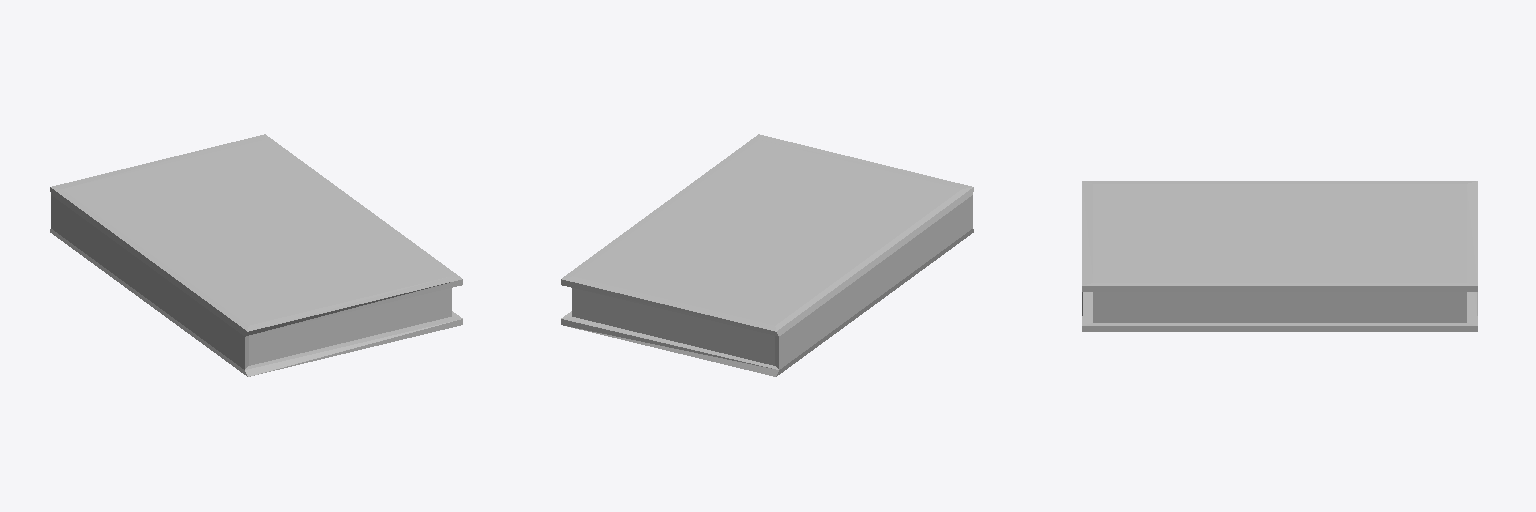
Rendered from BookStyle2.obj.
3 renders of one model, left to right at view 1: azimuth 30°, elevation 25°; view 2: azimuth 150°, elevation 25°; view 3: azimuth 270°, elevation 25°, orthographic.
Visible parts, largest first — view 1: Plane, Plane.001; view 2: Plane, Plane.001; view 3: Plane, Plane.001.
Boxes of the visible parts, x1,y1,x2,y2 form: Plane: [50, 134, 462, 376]; Plane.001: [249, 288, 451, 365]; Plane: [561, 134, 973, 376]; Plane.001: [572, 288, 774, 365]; Plane: [1082, 181, 1477, 331]; Plane.001: [1093, 292, 1466, 322].
Size of the model in its own units: 1.64 by 0.335 by 2.6.